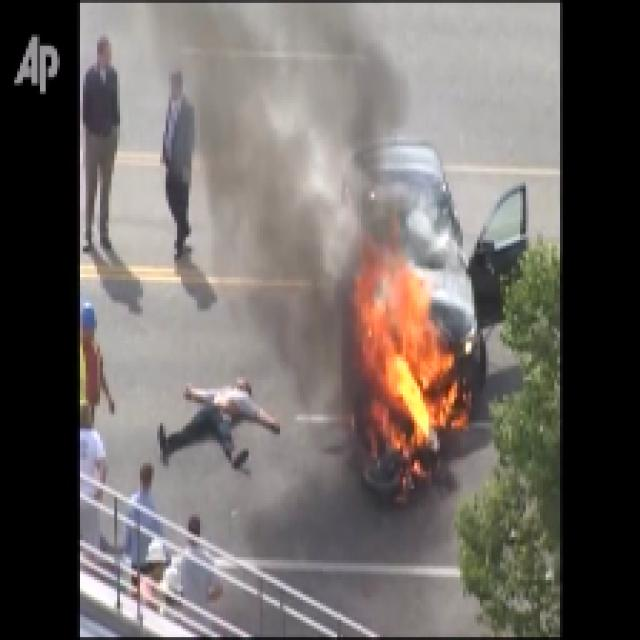fire: (354, 263, 459, 491)
smoke: (197, 2, 347, 311)
